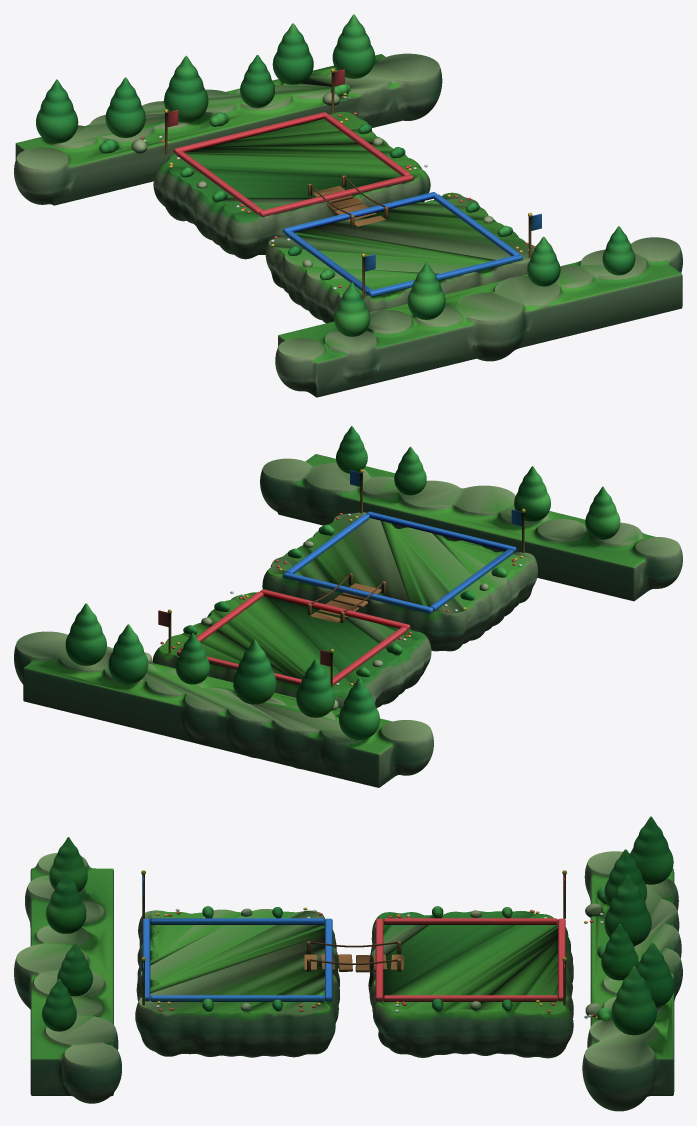
The model's file is bosque.glb.
3 views of the same model, one above another, from view 1: azimuth 30°, elevation 25°; view 2: azimuth 150°, elevation 25°; view 3: azimuth 270°, elevation 25° (orthographic). The views are drawn at different scales.
Visible parts, largest first — view 1: arena; view 2: arena; view 3: arena.
Boxes of the visible parts, <box> form: arena: <box>14,14,682,397</box>; arena: <box>14,426,682,787</box>; arena: <box>14,816,682,1111</box>.
Bounding box in the file's own units: 14.94 × 3.87 × 19.23.
